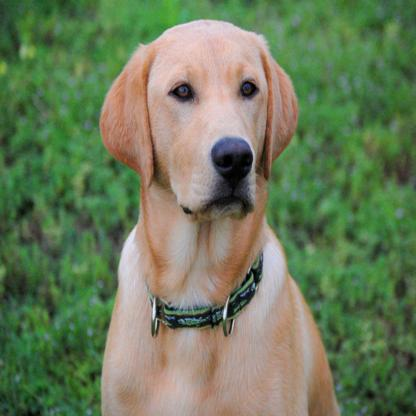Labarador Retriever: (94, 20, 340, 416)
